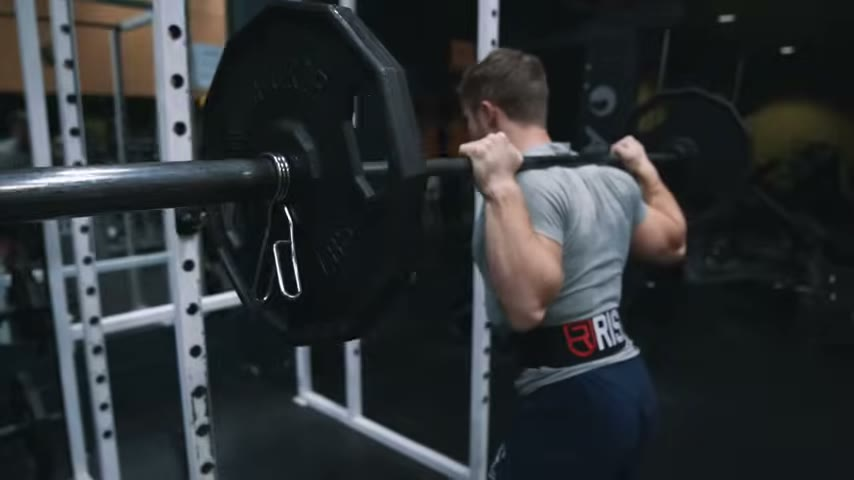barbell_plate_side: (170, 5, 274, 353)
